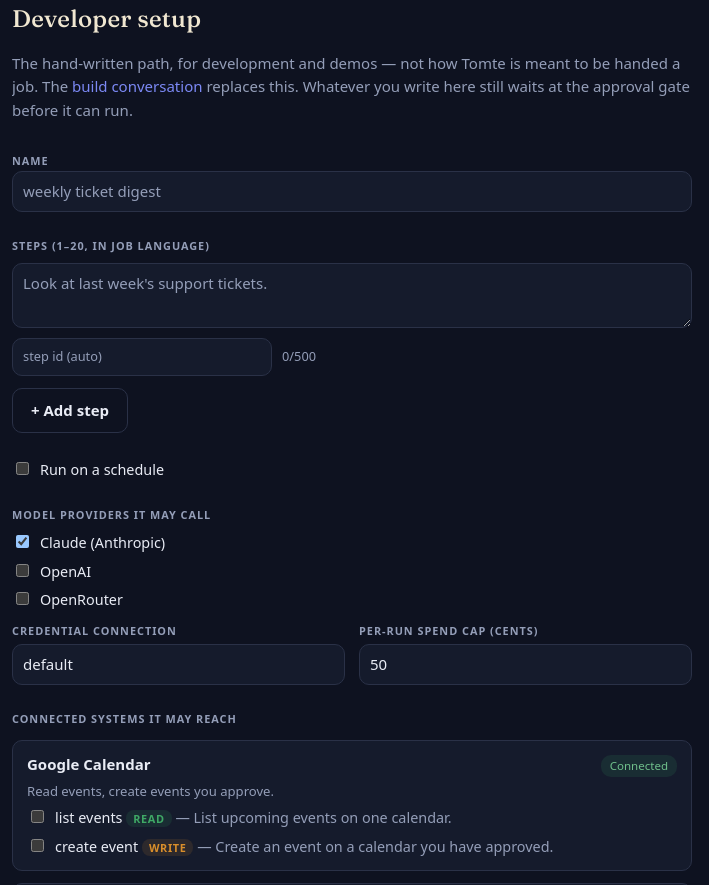
Test: Setup › asks for approved values when a constrained op is granted
Expected: the text "Google Calendar" is shown, [27,753,150,776]
Expected: the text "Approved calendar id values" is not shown
What coordinates should you click on to do the following:
click the checkbox labelled "create event"
I would click on:
 (38, 845)
Its box is [31,839,44,852].
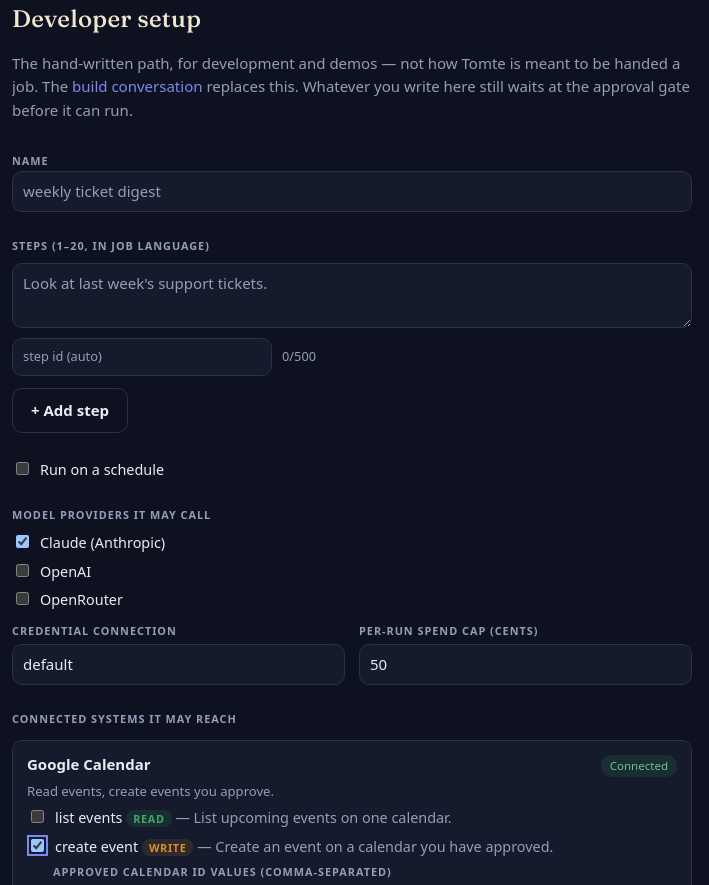
Now the text "Approved calendar id values (comma-separated)" is shown, box [53,864,392,879]
